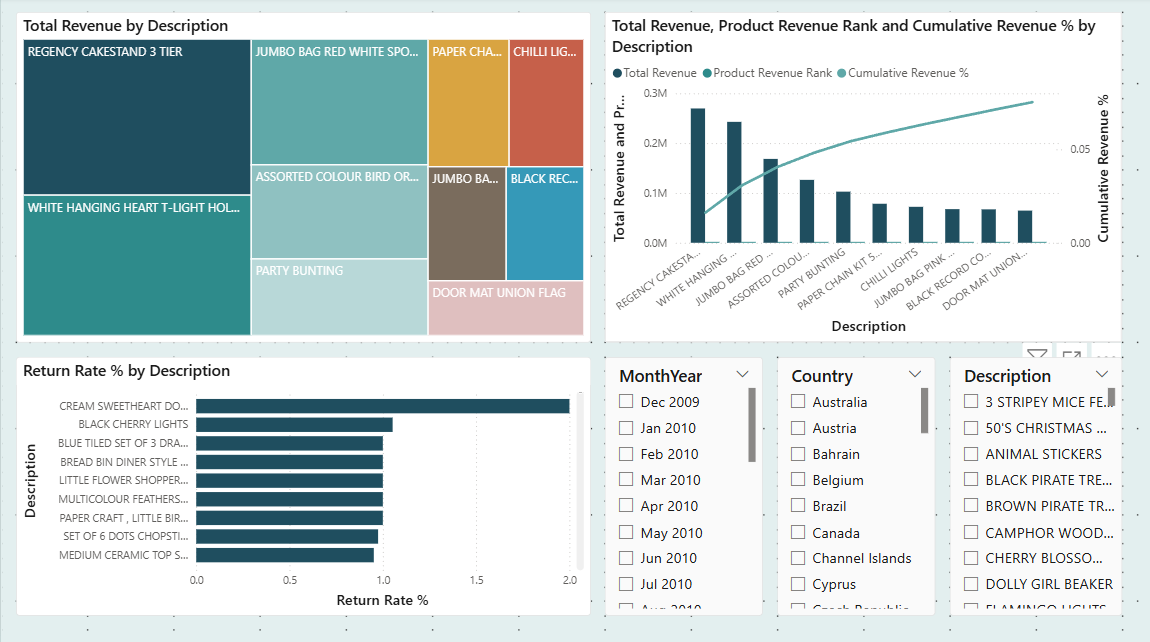

This screenshot's page, from the dashboard's own definition file:
{"tool":"powerbi","page":{"name":"Product Performance","canvas":[1280,720],"ordinal":2},"visuals":[{"type":"treemap","fields":{"Group":["DimProduct.Description"],"Values":["_Measures.Total Revenue"]},"box":[16,16,640,368],"z":0},{"type":"barChart","fields":{"Y":["_Measures.Return Rate %"],"Category":["DimProduct.Description"]},"box":[16,400,640,288],"z":1000},{"type":"lineClusteredColumnComboChart","fields":{"Y":["_Measures.Total Revenue","_Measures.Product Revenue Rank"],"Y2":["_Measures.Cumulative Revenue %"],"Category":["DimProduct.Description"]},"box":[672,16,576,368],"z":2000},{"type":"slicer","fields":{"Values":["DimDate.MonthYear"]},"box":[672,400,176,288],"z":3000},{"type":"slicer","fields":{"Values":["FactSales.Country"]},"box":[864,400,176,288],"z":4000},{"type":"slicer","fields":{"Values":["DimProduct.Description"]},"box":[1056,400,192,288],"z":5000}]}

Visuals, with their boxes in screenshot pixels (x1, y1, x2, y2), scaled from the page's 1280x720 canvas onto the 1150x642 screenshot:
treemap - DimProduct.Description x _Measures.Total Revenue: <region>14, 14, 589, 342</region>
barChart - _Measures.Return Rate % x DimProduct.Description: <region>14, 357, 589, 613</region>
lineClusteredColumnComboChart - _Measures.Total Revenue x _Measures.Product Revenue Rank: <region>604, 14, 1121, 342</region>
slicer - DimDate.MonthYear: <region>604, 357, 762, 613</region>
slicer - FactSales.Country: <region>776, 357, 934, 613</region>
slicer - DimProduct.Description: <region>949, 357, 1121, 613</region>
